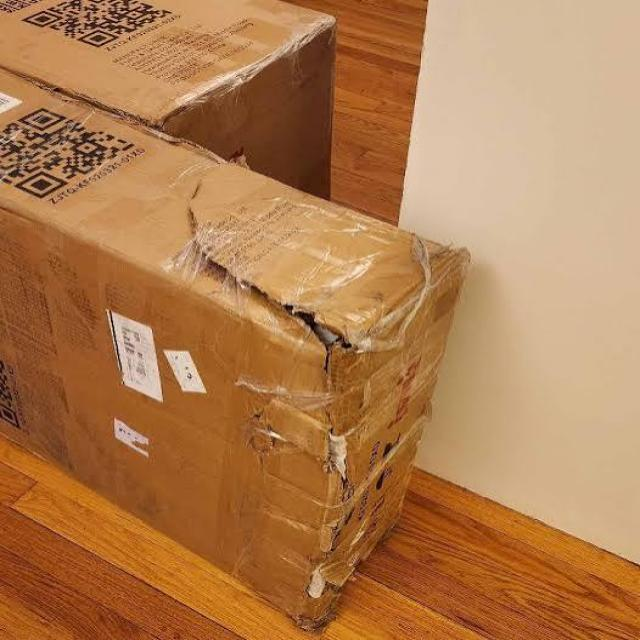carton_box: (0, 51, 477, 640)
package_damage: (154, 188, 471, 640)
